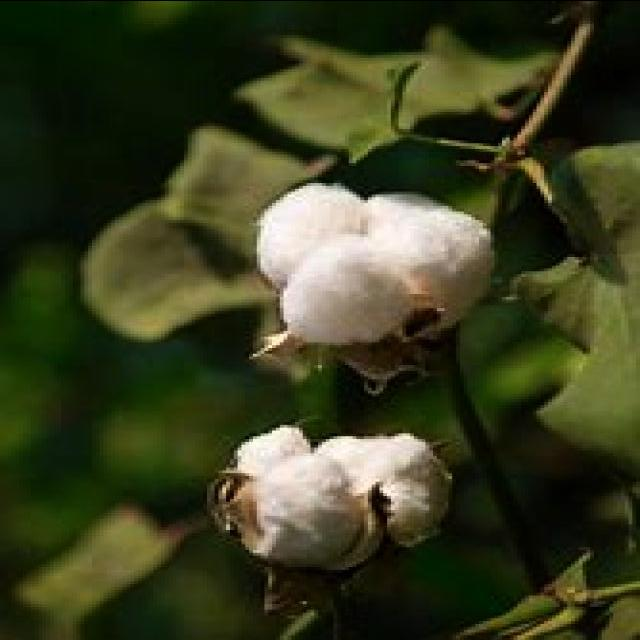Matured Cotton Boll: (246, 181, 495, 361), (208, 422, 452, 572)
